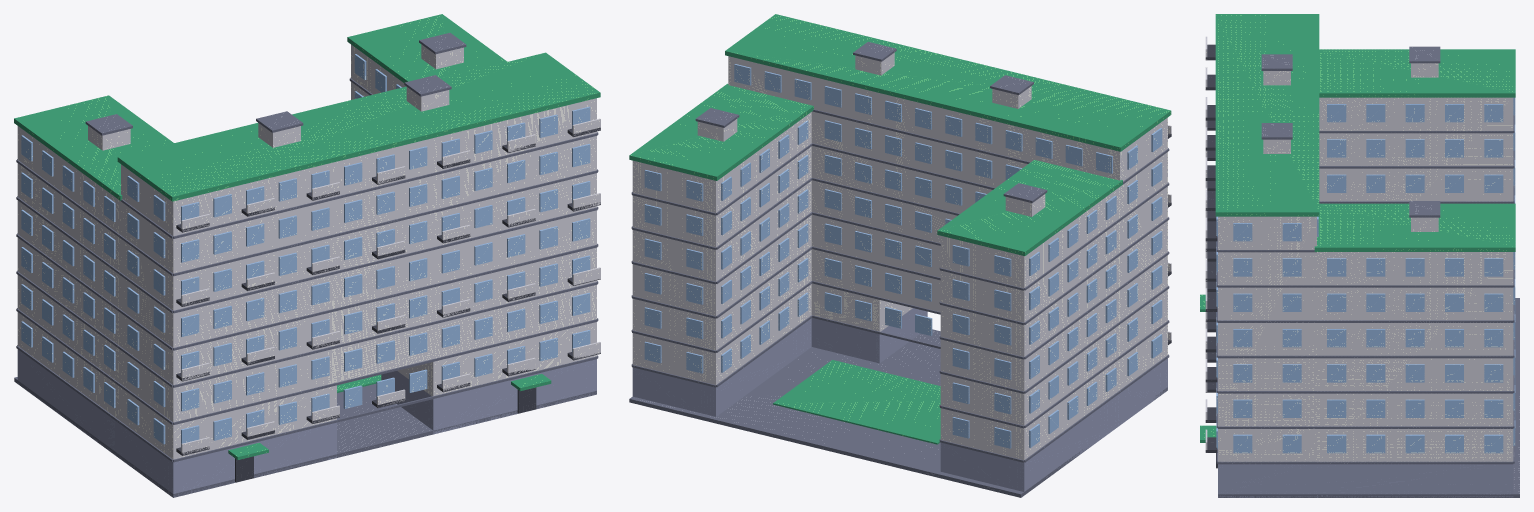
Rendered from panel-3x2-l2.glb.
The picture shows the model from 3 angles, left to right: view 1: azimuth 30°, elevation 25°; view 2: azimuth 150°, elevation 25°; view 3: azimuth 270°, elevation 25°; orthographic projection. The views are drawn at different scales.
Parts seen in each view (by area): view 1: panel-3x2-l2; view 2: panel-3x2-l2; view 3: panel-3x2-l2.
Boxes of the visible parts, box(x1,y1,x2,y2) form: panel-3x2-l2: box(14, 14, 600, 497); panel-3x2-l2: box(629, 14, 1171, 497); panel-3x2-l2: box(1200, 14, 1519, 497).
Bounding box in the file's own units: 5.78 × 4.14 × 3.94.
Materials: 1 (1 with a texture image).
